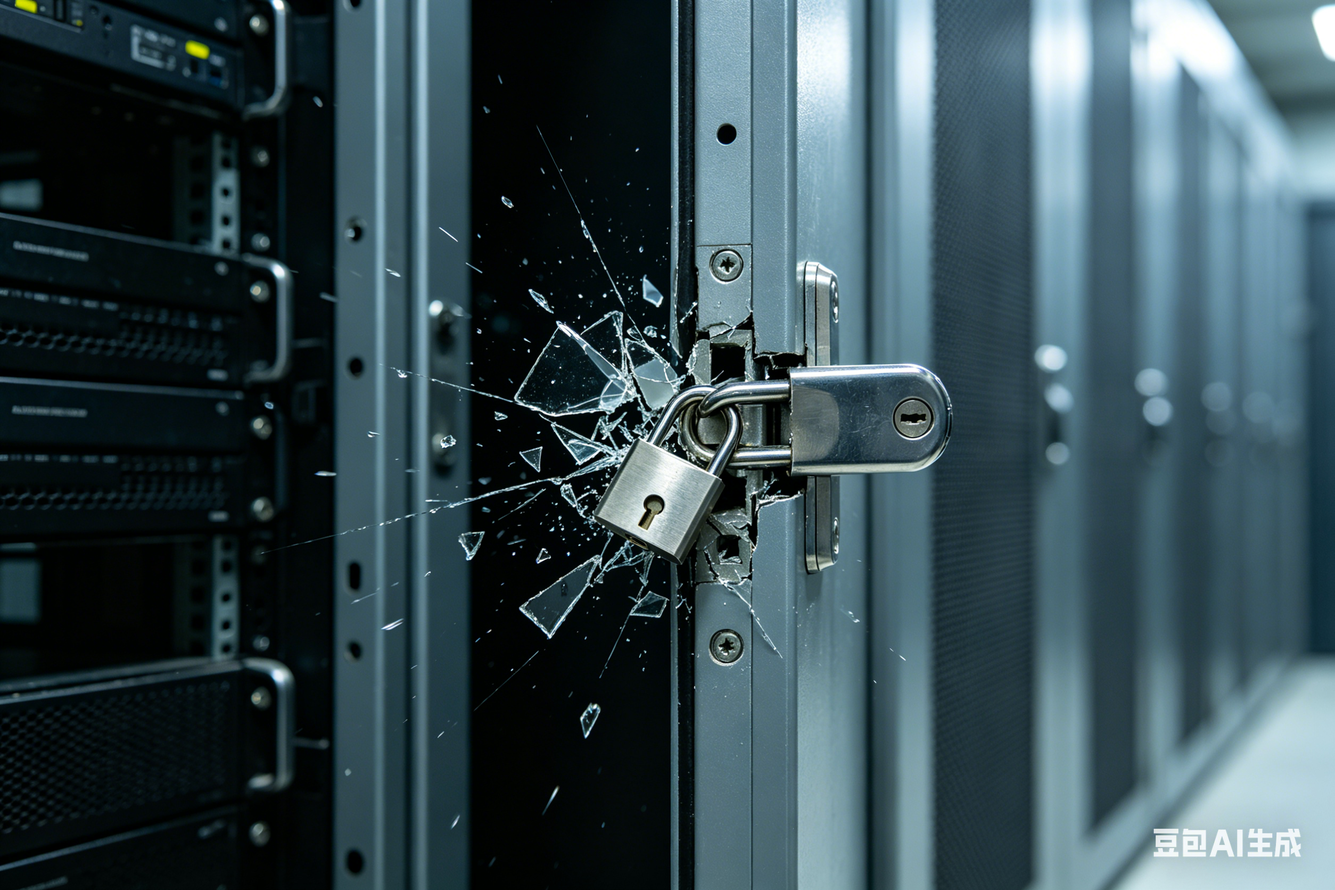BadLock: (615, 294, 823, 620)
